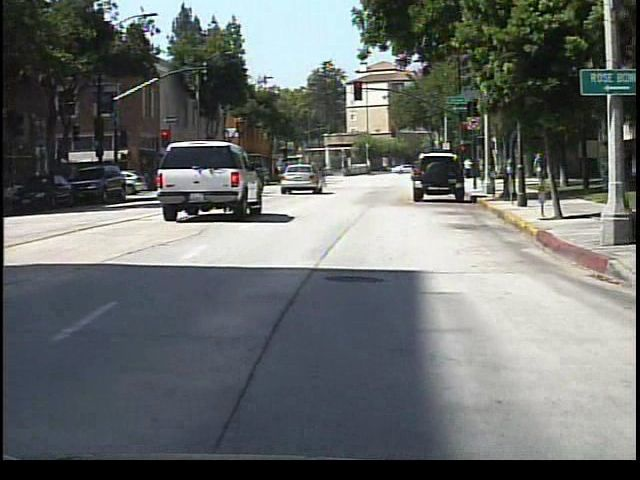person: (313, 157, 334, 193), (533, 152, 549, 189), (465, 156, 475, 180)
